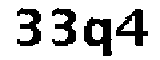3: (50, 6, 79, 52), (13, 7, 43, 51)
4: (113, 4, 153, 50)
q: (82, 15, 114, 60)
